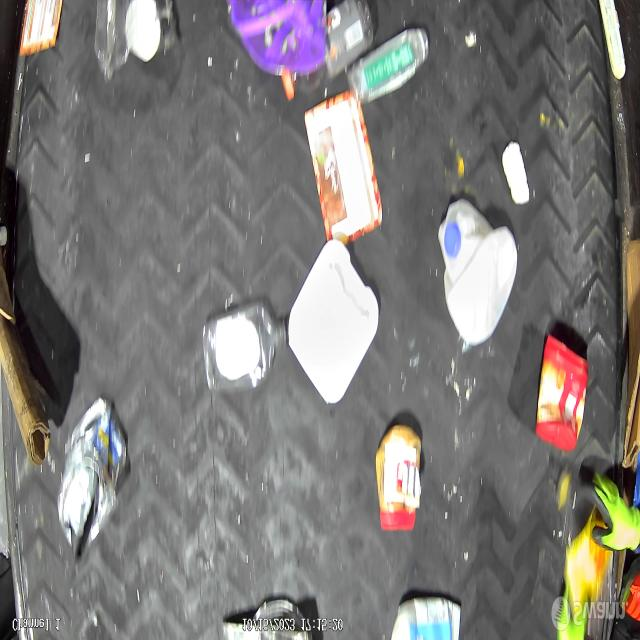milk_jug: (437, 197, 518, 346)
non_white_jug: (536, 331, 590, 454)
plastic_bottle: (282, 0, 375, 99)
